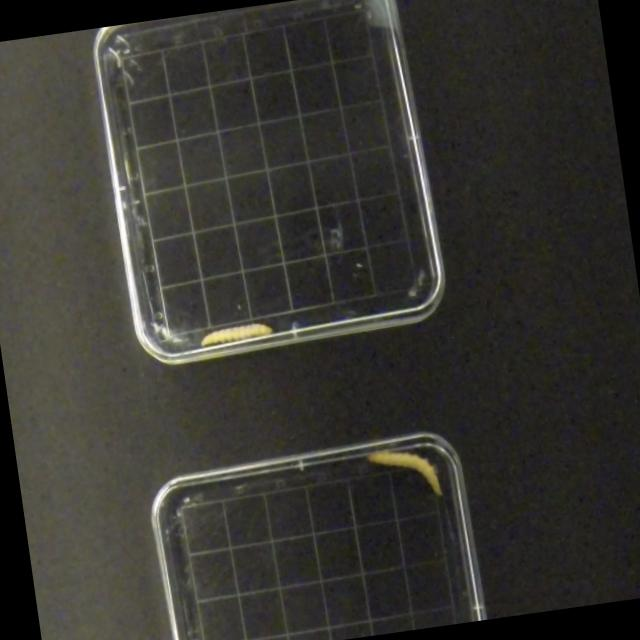larva: (362, 440, 454, 512), (192, 317, 280, 353)
